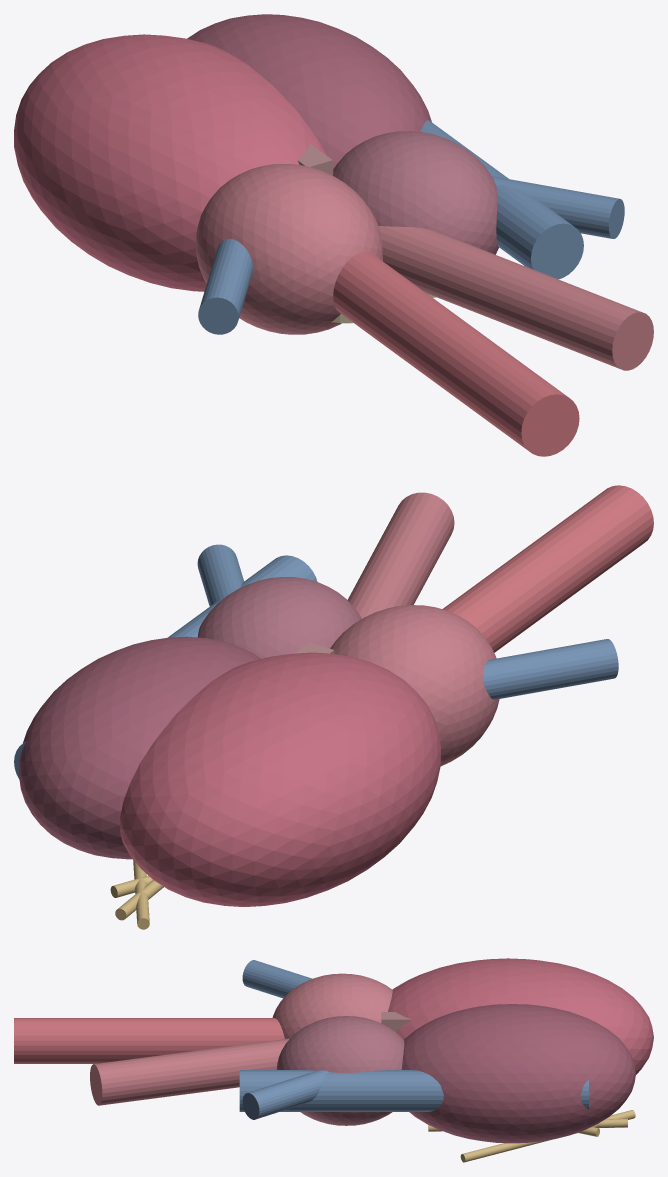
The model's file is heart-g3-high.glb.
3 renders of one model, top to bottom at view 1: azimuth 30°, elevation 25°; view 2: azimuth 150°, elevation 25°; view 3: azimuth 270°, elevation 25°, orthographic. The views are drawn at different scales.
Visible parts, largest first — view 1: left_ventricle, left_atrium, aorta, right_ventricle, pulmonary_artery, right_atrium, vena_cava, left_pulmonary_vein_proxy, right_pulmonary_vein_proxy; view 2: left_ventricle, right_ventricle, aorta, left_atrium, right_atrium, pulmonary_artery, left_pulmonary_vein_proxy, right_pulmonary_vein_proxy, vena_cava, coronary_vessel_3; view 3: right_ventricle, left_ventricle, aorta, pulmonary_artery, right_atrium, vena_cava, left_atrium, right_pulmonary_vein_proxy, left_pulmonary_vein_proxy, coronary_vessel_3, interventricular_septum_proxy, coronary_vessel_2.
Boxes of the visible parts, left/top/right/bottom form: left_ventricle: left=14, top=34, right=326, bottom=291; left_atrium: left=195, top=164, right=382, bottom=334; aorta: left=333, top=252, right=579, bottom=456; right_ventricle: left=187, top=14, right=431, bottom=168; pulmonary_artery: left=378, top=226, right=653, bottom=370; right_atrium: left=333, top=131, right=498, bottom=254; vena_cava: left=420, top=120, right=583, bottom=279; left_pulmonary_vein_proxy: left=198, top=239, right=252, bottom=334; right_pulmonary_vein_proxy: left=492, top=176, right=624, bottom=238; left_ventricle: left=120, top=652, right=441, bottom=906; right_ventricle: left=19, top=636, right=260, bottom=859; aorta: left=442, top=485, right=653, bottom=652; left_atrium: left=330, top=605, right=499, bottom=766; right_atrium: left=197, top=577, right=361, bottom=658; pulmonary_artery: left=348, top=492, right=454, bottom=618; left_pulmonary_vein_proxy: left=483, top=639, right=618, bottom=699; right_pulmonary_vein_proxy: left=197, top=544, right=243, bottom=606; vena_cava: left=14, top=555, right=317, bottom=779; coronary_vessel_3: left=133, top=860, right=149, bottom=929; right_ventricle: left=401, top=1004, right=635, bottom=1143; left_ventricle: left=388, top=958, right=653, bottom=1075; aorta: left=14, top=1018, right=284, bottom=1063; pulmonary_artery: left=90, top=1038, right=289, bottom=1105; right_atrium: left=276, top=1016, right=404, bottom=1125; vena_cava: left=239, top=1070, right=588, bottom=1111; left_atrium: left=272, top=973, right=392, bottom=1038; right_pulmonary_vein_proxy: left=242, top=1070, right=328, bottom=1119; left_pulmonary_vein_proxy: left=242, top=960, right=312, bottom=998; coronary_vessel_3: left=460, top=1110, right=635, bottom=1162; interventricular_septum_proxy: left=381, top=1012, right=412, bottom=1031; coronary_vessel_2: left=428, top=1118, right=627, bottom=1131.
Bounding box in the file's own units: 1.69 × 0.74 × 3.2.
